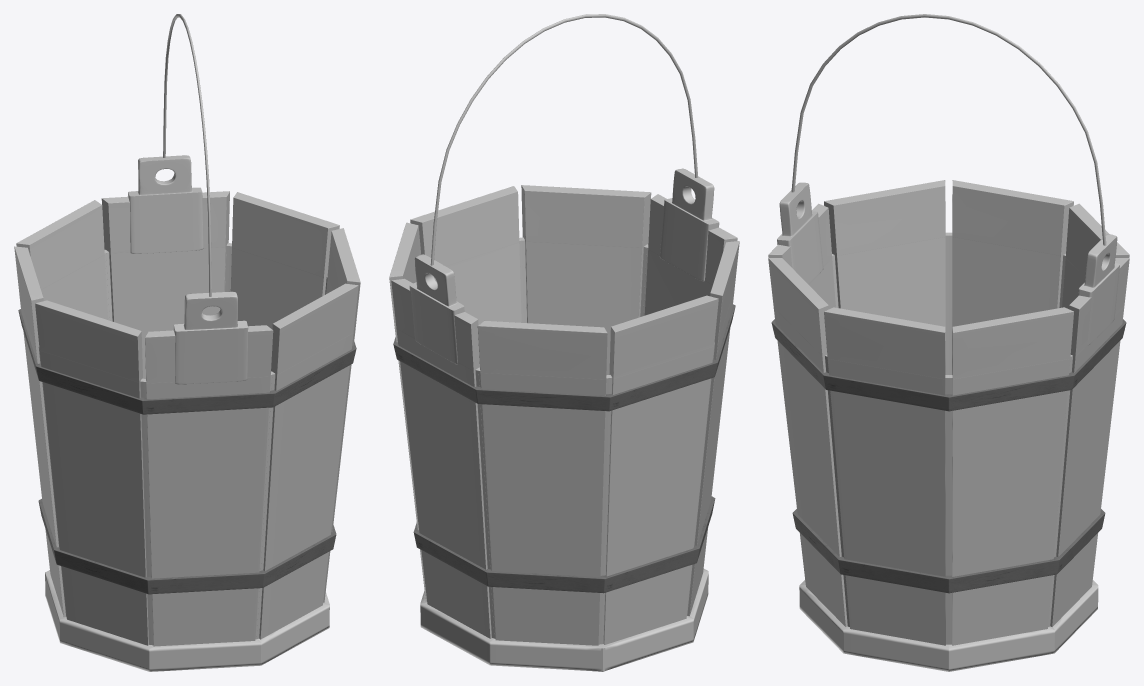
Rendered from bucket.fbx.
The picture shows the model from 3 angles, left to right: view 1: azimuth 30°, elevation 25°; view 2: azimuth 150°, elevation 25°; view 3: azimuth 270°, elevation 25°; orthographic projection.
Parts seen in each view (by area): view 1: pCube10, pCube11, pCylinder1, pPipe2, pPipe3, pTorus1; view 2: pCube10, pCube11, pCylinder1, pPipe2, pPipe3, pTorus1; view 3: pCube10, pCylinder1, pCube11, pPipe2, pPipe3, pTorus1.
Part boxes in pixels (bbox=[...]): pCube10: bbox=[14, 191, 360, 646]; pCube11: bbox=[128, 155, 248, 384]; pCylinder1: bbox=[45, 570, 329, 671]; pPipe2: bbox=[18, 309, 356, 414]; pPipe3: bbox=[38, 499, 336, 594]; pTorus1: bbox=[163, 14, 211, 296]; pCube10: bbox=[389, 185, 739, 645]; pCube11: bbox=[409, 168, 719, 364]; pCylinder1: bbox=[420, 568, 708, 671]; pPipe2: bbox=[393, 304, 735, 411]; pPipe3: bbox=[413, 496, 715, 593]; pTorus1: bbox=[430, 14, 698, 265]; pCube10: bbox=[768, 180, 1129, 645]; pCylinder1: bbox=[799, 580, 1098, 671]; pCube11: bbox=[777, 182, 1119, 345]; pPipe2: bbox=[771, 319, 1126, 411]; pPipe3: bbox=[792, 509, 1105, 593]; pTorus1: bbox=[791, 14, 1106, 245].
Bounding box in the file's own units: 4.16 × 7.53 × 4.16.
